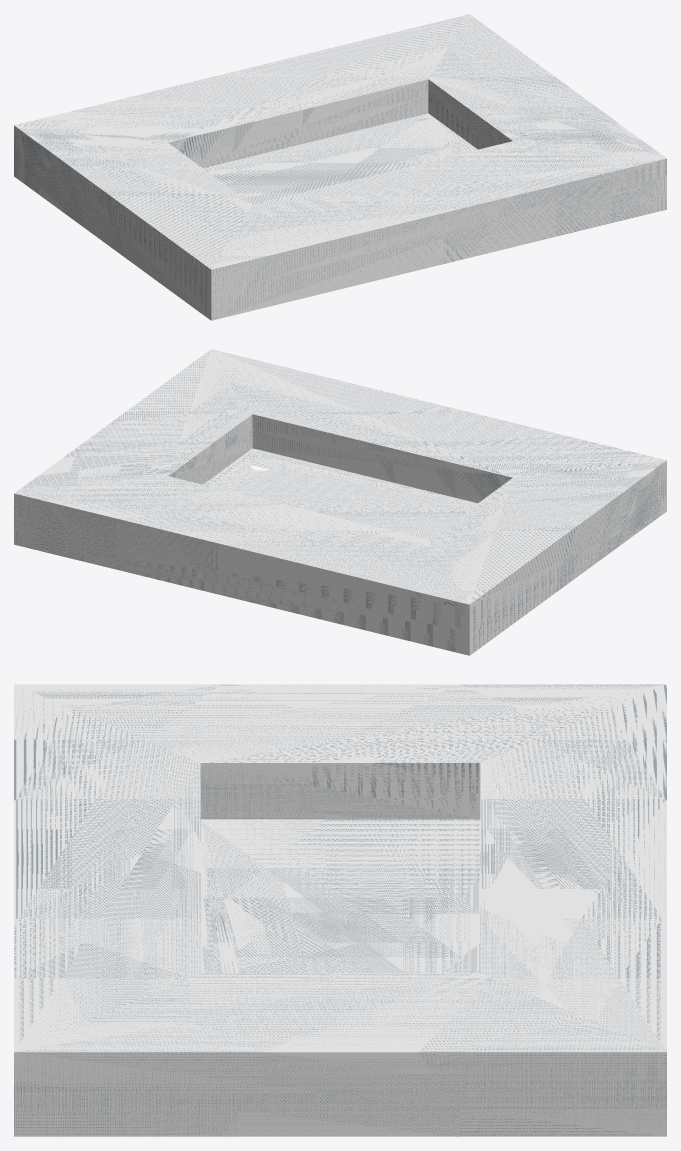
Rendered from _Tutorial 2 (dae).dae.
3 views of the same model, one above another, from view 1: azimuth 30°, elevation 25°; view 2: azimuth 150°, elevation 25°; view 3: azimuth 270°, elevation 25° (orthographic). The views are drawn at different scales.
Visible parts, largest first — view 1: SketchUp (×2); view 2: SketchUp (×2); view 3: SketchUp (×2).
Boxes of the visible parts, bbox=[...] form: SketchUp (×2): bbox=[14, 14, 666, 320]; SketchUp (×2): bbox=[14, 349, 666, 655]; SketchUp (×2): bbox=[14, 684, 666, 1136].
Size of the model in its own units: 1102 by 827 by 118.
